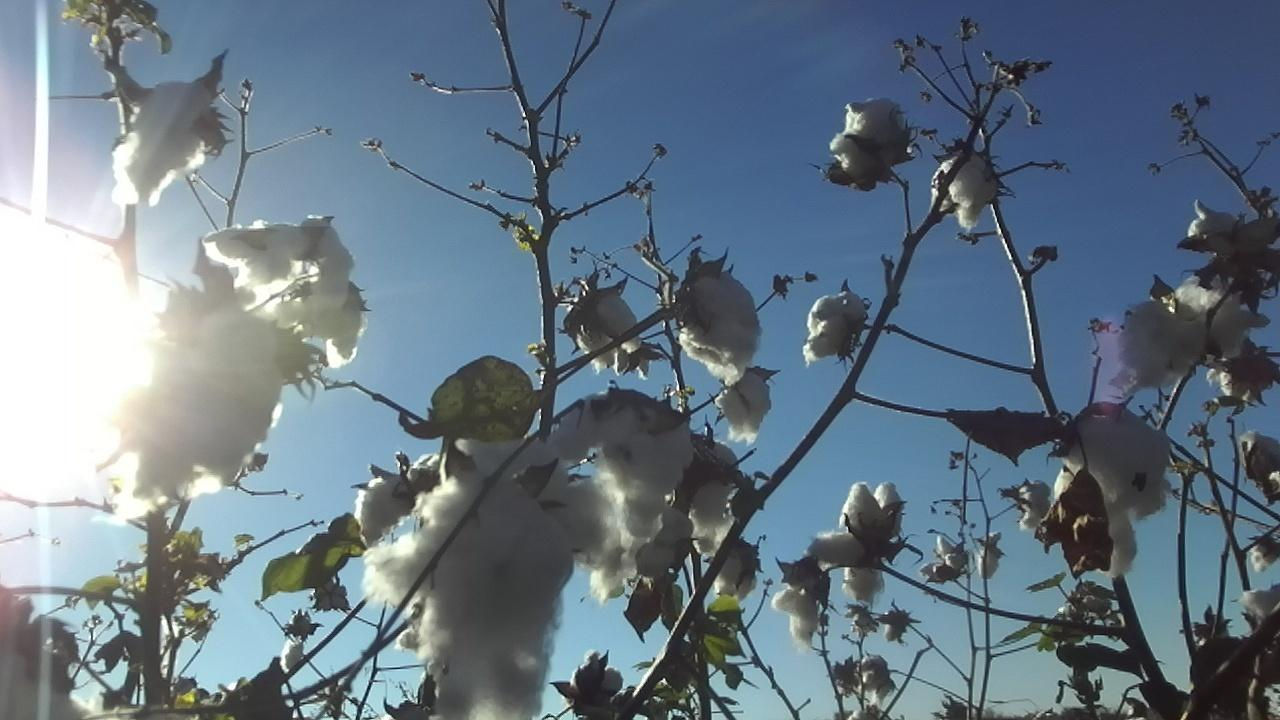cotton_ready: (364, 437, 615, 720), (113, 290, 284, 525), (543, 393, 697, 600), (1054, 405, 1172, 577), (207, 217, 355, 310), (812, 478, 900, 602), (131, 80, 222, 194), (676, 273, 759, 384), (1170, 277, 1272, 364), (352, 454, 445, 542), (676, 439, 742, 557), (1120, 299, 1206, 387), (0, 649, 85, 720), (832, 98, 902, 180), (575, 293, 645, 375), (293, 281, 365, 359), (929, 153, 999, 230), (805, 290, 869, 362), (714, 374, 772, 442), (772, 583, 819, 647)
